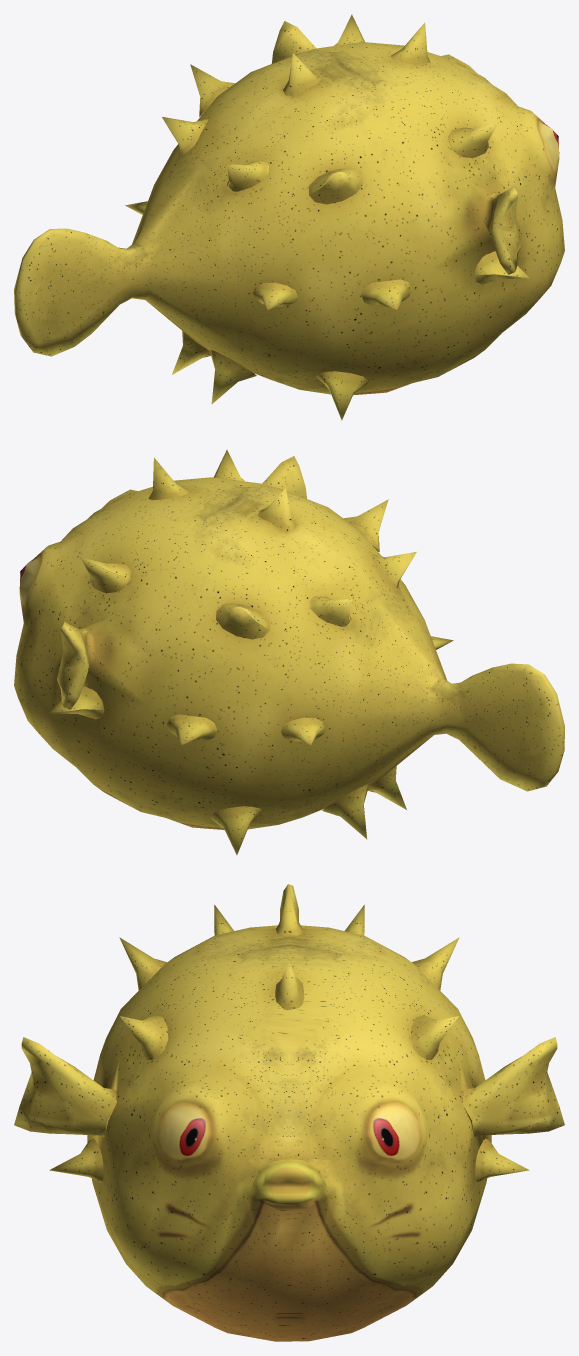
Rendered from PufferFish2.fbx.
3 renders of one model, top to bottom at view 1: azimuth 30°, elevation 25°; view 2: azimuth 150°, elevation 25°; view 3: azimuth 270°, elevation 25°, orthographic. The views are drawn at different scales.
Visible parts, largest first — view 1: SM_PufferFishBalloon_MI_PufferBalloon_0; view 2: SM_PufferFishBalloon_MI_PufferBalloon_0; view 3: SM_PufferFishBalloon_MI_PufferBalloon_0.
Part boxes in pixels (<box>): SM_PufferFishBalloon_MI_PufferBalloon_0: <box>14,14,564,420</box>; SM_PufferFishBalloon_MI_PufferBalloon_0: <box>14,450,564,854</box>; SM_PufferFishBalloon_MI_PufferBalloon_0: <box>14,884,564,1341</box>.
Bounding box in the file's own units: 9996 × 6068 × 7793.
